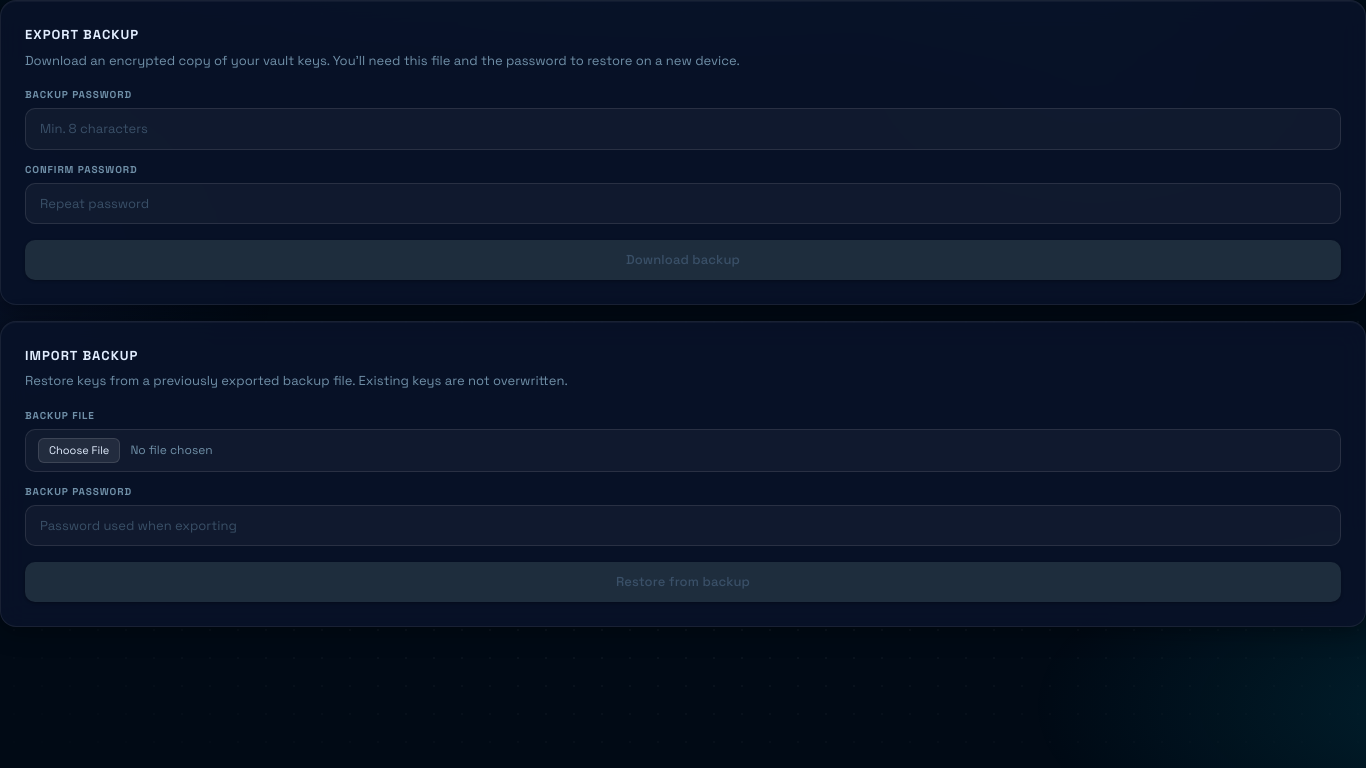
Test case: VaultBackup — Export panel › shows error when passwords do not match
Type "password1" into the password field with placeholder "Min. 8 characters" at (683, 129), box [25,108,1341,150]
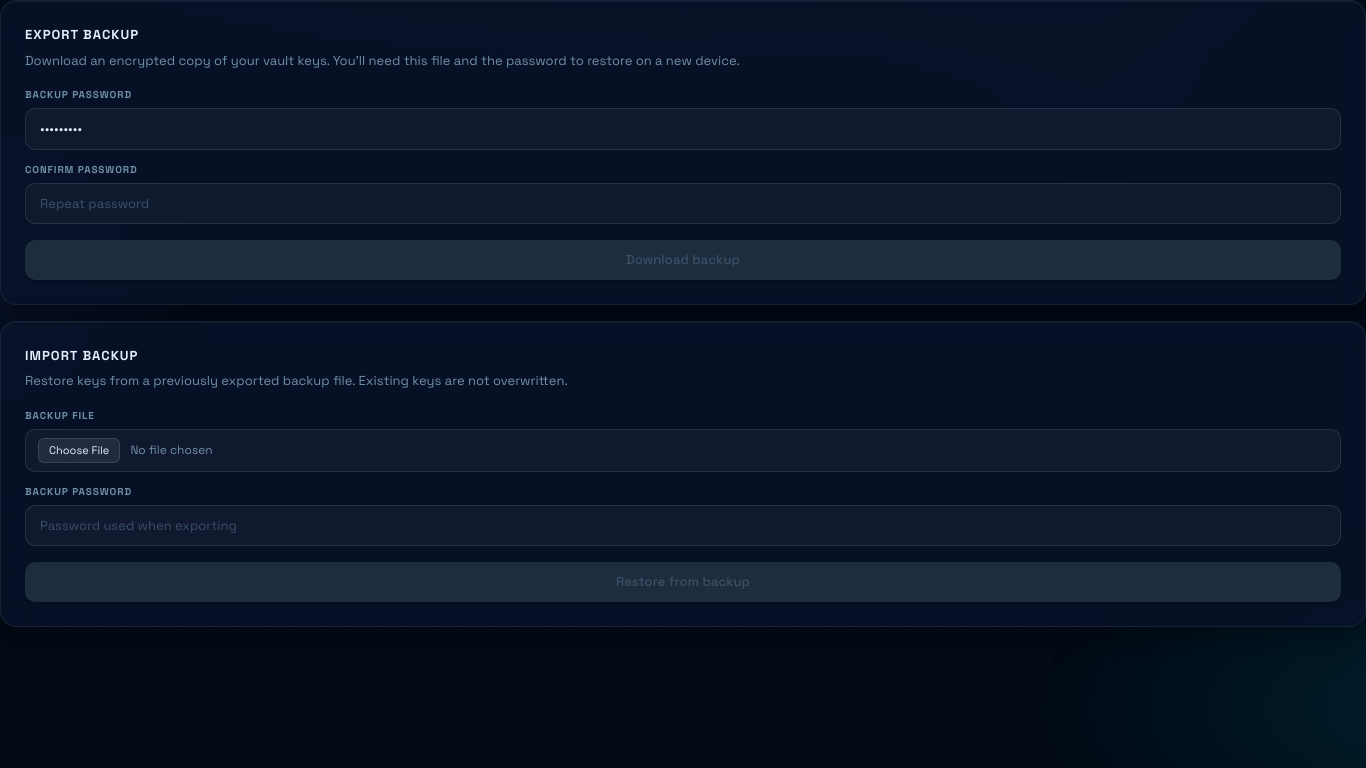
Type "password2" into the password field with placeholder "Repeat password" at (683, 204), box [25,183,1341,224]
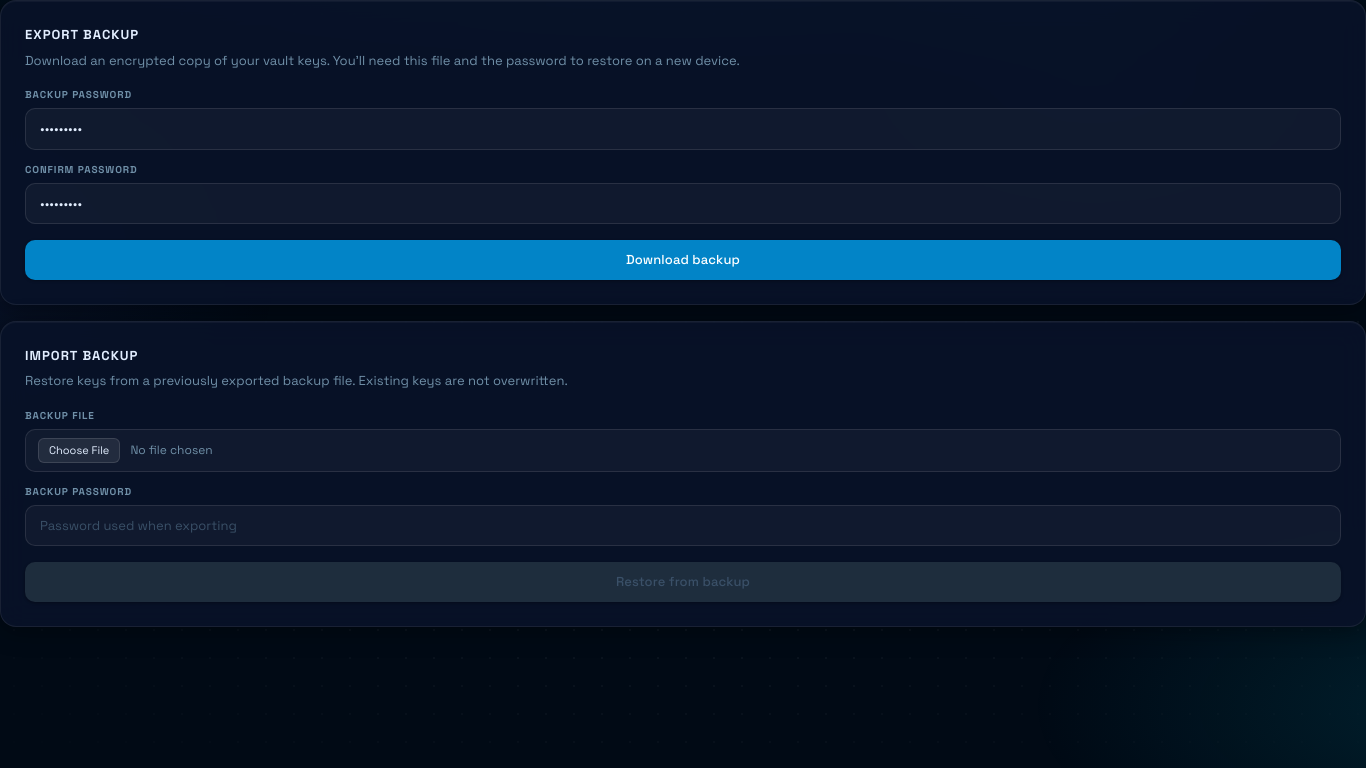
Click the button "Download backup" at (683, 260), box [25,240,1341,280]
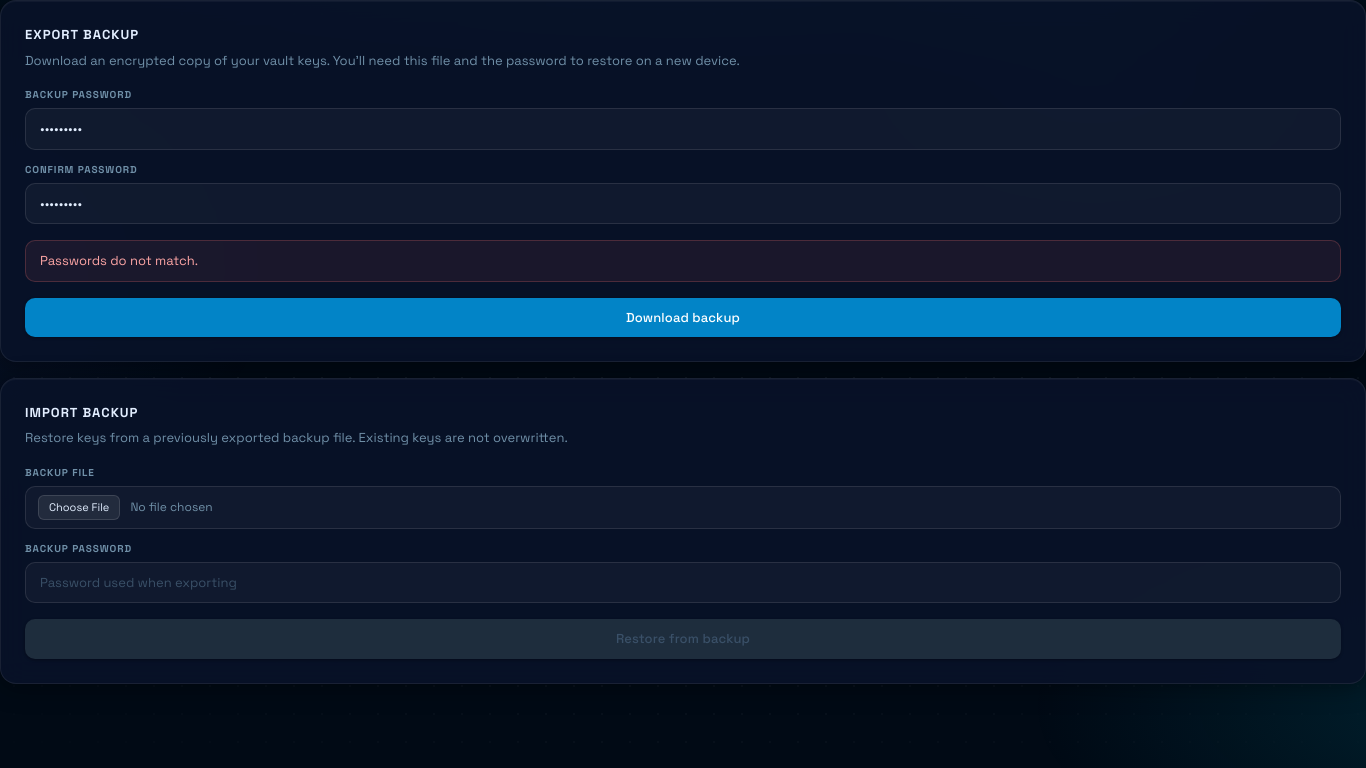
Expected: the text "Passwords do not match." is shown, [25,240,1341,282]
